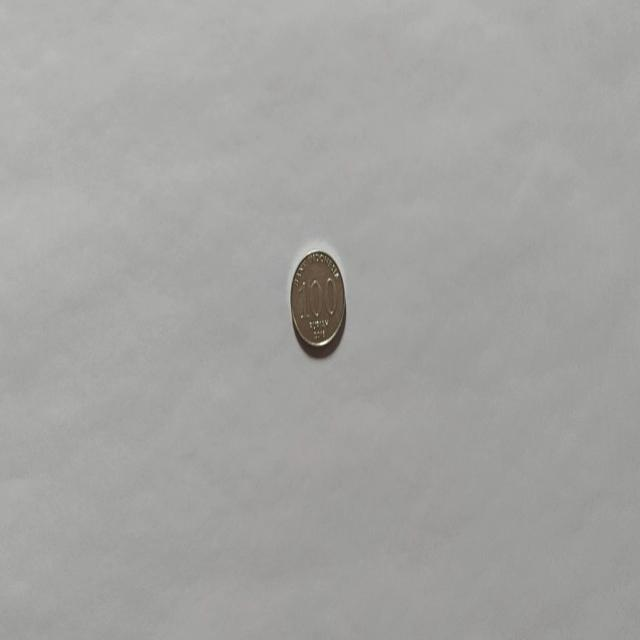seratus rupiah: (289, 248, 346, 352)
